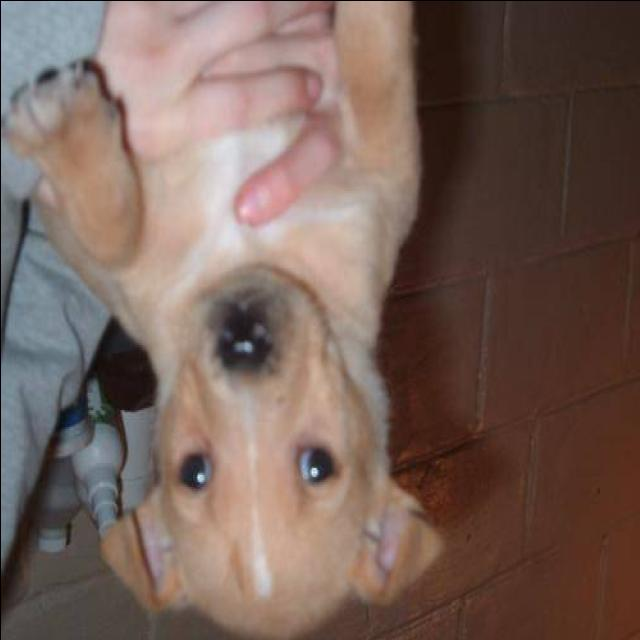dog: (31, 0, 456, 636)
